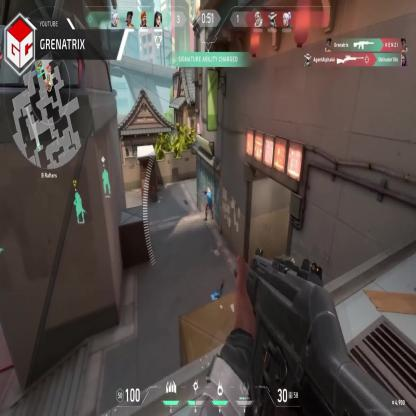enemy: (204, 185, 213, 222)
enemy_head: (207, 187, 210, 193)
